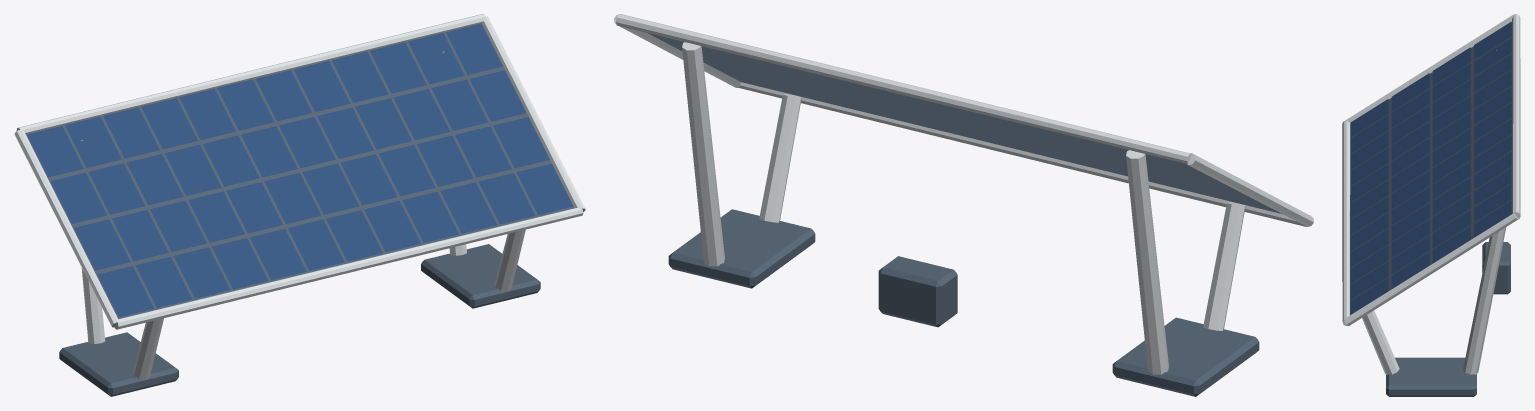
3 views of the same model, side by side, from view 1: azimuth 30°, elevation 25°; view 2: azimuth 150°, elevation 25°; view 3: azimuth 270°, elevation 25° (orthographic). The views are drawn at different scales.
Visible parts, largest first — view 1: ME-003 Fixed surface solar array batched; view 2: ME-003 Fixed surface solar array batched; view 3: ME-003 Fixed surface solar array batched.
Part boxes in pixels (x1,y1,x2,y2): ME-003 Fixed surface solar array batched: (14, 14, 585, 396); ME-003 Fixed surface solar array batched: (614, 14, 1313, 396); ME-003 Fixed surface solar array batched: (1342, 14, 1520, 396).
Bounding box in the file's own units: 3.67 × 1.64 × 1.37.
